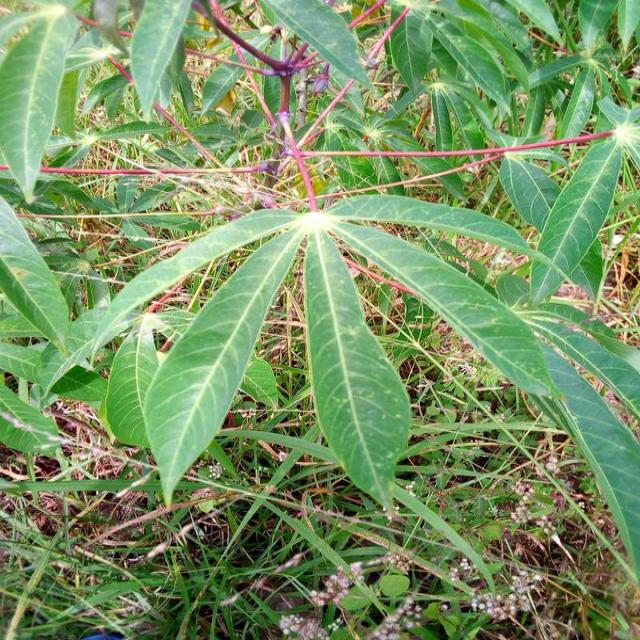cassava leaf: (142, 214, 303, 507), (303, 222, 412, 511), (527, 130, 623, 308), (0, 2, 78, 204)
